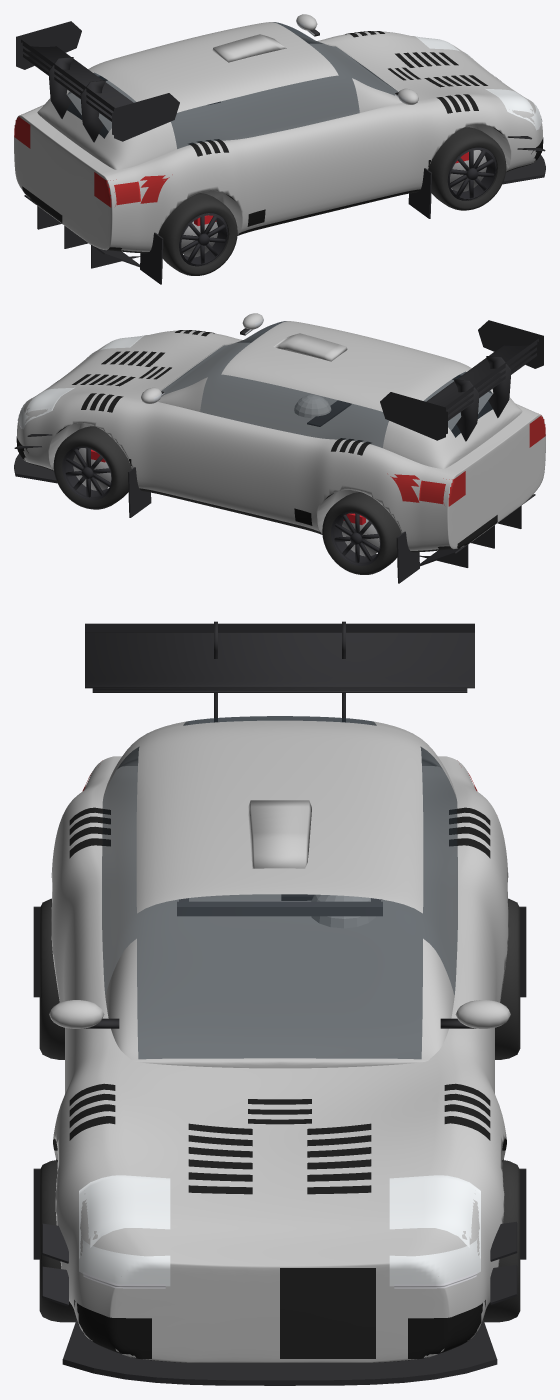
File: audi_s1_eks_rx_quattro.glb
The picture shows the model from 3 angles, top to bottom: view 1: azimuth 30°, elevation 25°; view 2: azimuth 150°, elevation 25°; view 3: azimuth 270°, elevation 25°; orthographic projection. The views are drawn at different scales.
Parts seen in each view (by area): view 1: body, cabin, bumper_rear, wing_rear_up3, wheel_fr_spin, wheel_rr_spin, bumper_front, mudflaps, diffuser, wing_rear_up2, wing_rear, splitter (+2 smaller); view 2: body, cabin, bumper_rear, wing_rear_up3, wheel_fl_spin, wheel_rl_spin, bumper_front, mudflaps, diffuser, interior, wing_rear_up2, wing_rear (+2 smaller); view 3: body, cabin, bumper_front, wing_rear_up3, splitter_up, splitter, interior, canards, wheel_rl_spin, wheel_rr_spin, mudflaps, wheel_fl_spin (+6 smaller).
Part boxes in pixels (x1,y1,x2,y2): body: [44, 31, 511, 253]; cabin: [37, 22, 401, 169]; bumper_rear: [14, 105, 140, 252]; wing_rear_up3: [16, 21, 179, 142]; wheel_fr_spin: [428, 127, 506, 210]; wheel_rr_spin: [158, 193, 237, 275]; bumper_front: [412, 36, 543, 171]; mudflaps: [140, 168, 431, 284]; diffuser: [24, 195, 140, 268]; wing_rear_up2: [18, 35, 113, 132]; wing_rear: [18, 42, 113, 134]; splitter: [504, 162, 538, 179]; body: [48, 330, 515, 552]; cabin: [158, 321, 522, 468]; bumper_rear: [419, 404, 545, 551]; wing_rear_up3: [380, 320, 543, 441]; wheel_fl_spin: [53, 426, 131, 509]; wheel_rl_spin: [322, 492, 401, 574]; bumper_front: [16, 335, 147, 470]; mudflaps: [128, 467, 419, 583]; diffuser: [419, 494, 535, 567]; interior: [294, 395, 351, 426]; wing_rear_up2: [446, 334, 541, 431]; wing_rear: [446, 341, 541, 433]; body: [51, 775, 508, 1301]; cabin: [102, 716, 457, 1068]; bumper_front: [61, 1175, 498, 1362]; wing_rear_up3: [85, 621, 474, 721]; splitter_up: [62, 1319, 497, 1385]; splitter: [69, 1328, 490, 1374]; interior: [177, 894, 382, 928]; canards: [42, 1221, 517, 1306]; wheel_rl_spin: [495, 898, 520, 1059]; wheel_rr_spin: [39, 898, 64, 1059]; mudflaps: [33, 906, 526, 1259]; wheel_fl_spin: [483, 1160, 520, 1322].
Size of the model in its own units: 4.13 by 1.61 by 1.96.
